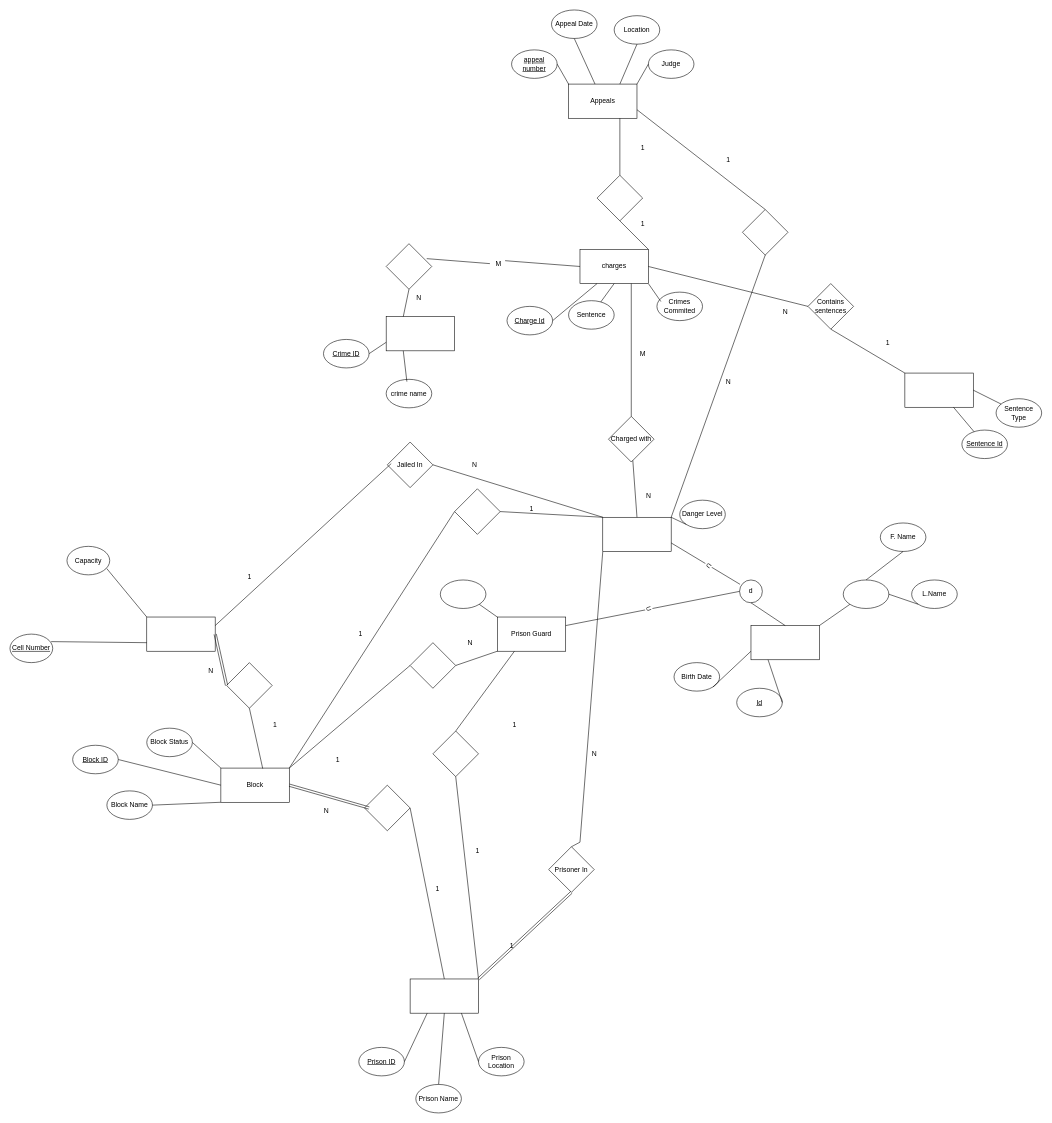
Image size: 1052x1123. Some labels were removed from this diagram. The box of each missing label's shape, as (x1, y1, x2, y2) in pixels:
Being Appealed: (597, 175, 643, 221)
Cell: (146, 616, 215, 651)
Commited Crimes: (386, 243, 432, 289)
Contains: (364, 785, 410, 831)
crimes: (386, 316, 455, 351)
Houses: (226, 662, 272, 708)
In Block: (454, 488, 500, 534)
is Appealing: (742, 209, 788, 255)
Located In: (410, 642, 456, 688)
Name: (843, 579, 889, 608)
Person: (750, 625, 819, 660)
Prison: (410, 978, 479, 1013)
Prisoner: (602, 517, 671, 551)
Rank: (440, 579, 486, 608)
sentences: (904, 372, 973, 407)
Warden Of: (432, 730, 479, 777)
